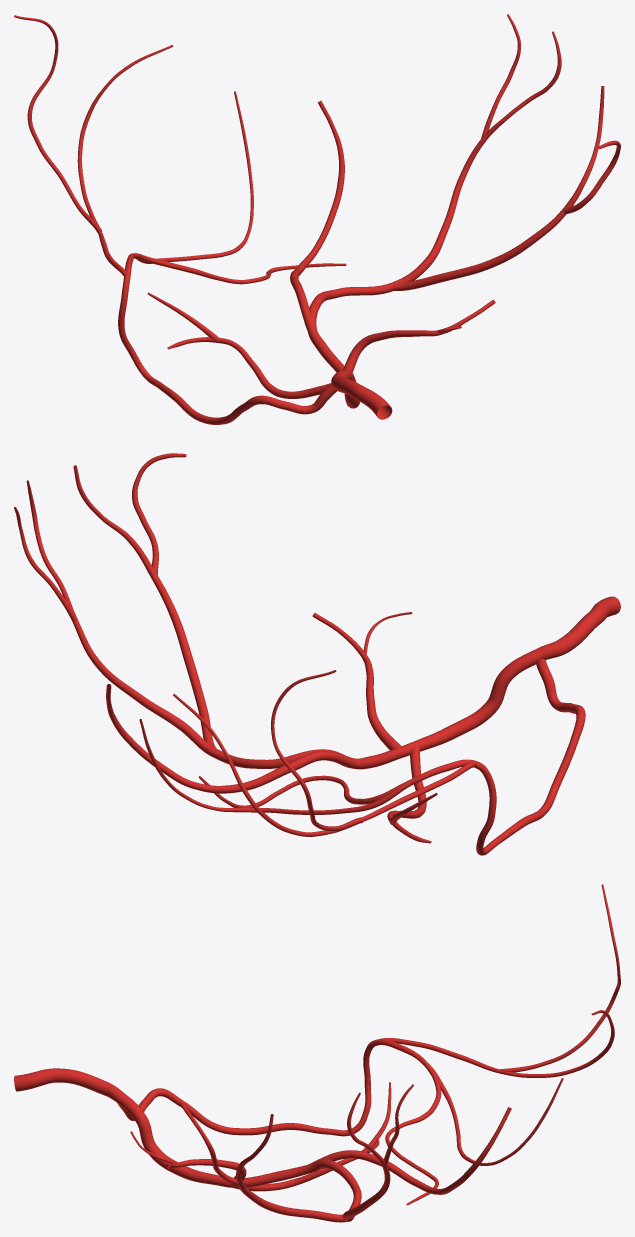
Rendered from circulatorio-posterior-inferior-cerebellar-artery-l.glb.
3 renders of one model, top to bottom at view 1: azimuth 30°, elevation 25°; view 2: azimuth 150°, elevation 25°; view 3: azimuth 270°, elevation 25°, orthographic. The views are drawn at different scales.
Visible parts, largest first — view 1: Posterior inferior cerebellar artery.l; view 2: Posterior inferior cerebellar artery.l; view 3: Posterior inferior cerebellar artery.l.
Boxes of the visible parts, x1,y1,x2,y2 form: Posterior inferior cerebellar artery.l: [14, 14, 620, 424]; Posterior inferior cerebellar artery.l: [14, 453, 620, 855]; Posterior inferior cerebellar artery.l: [14, 884, 620, 1222].
Size of the model in its own units: 0.0468 by 0.0286 by 0.06.
